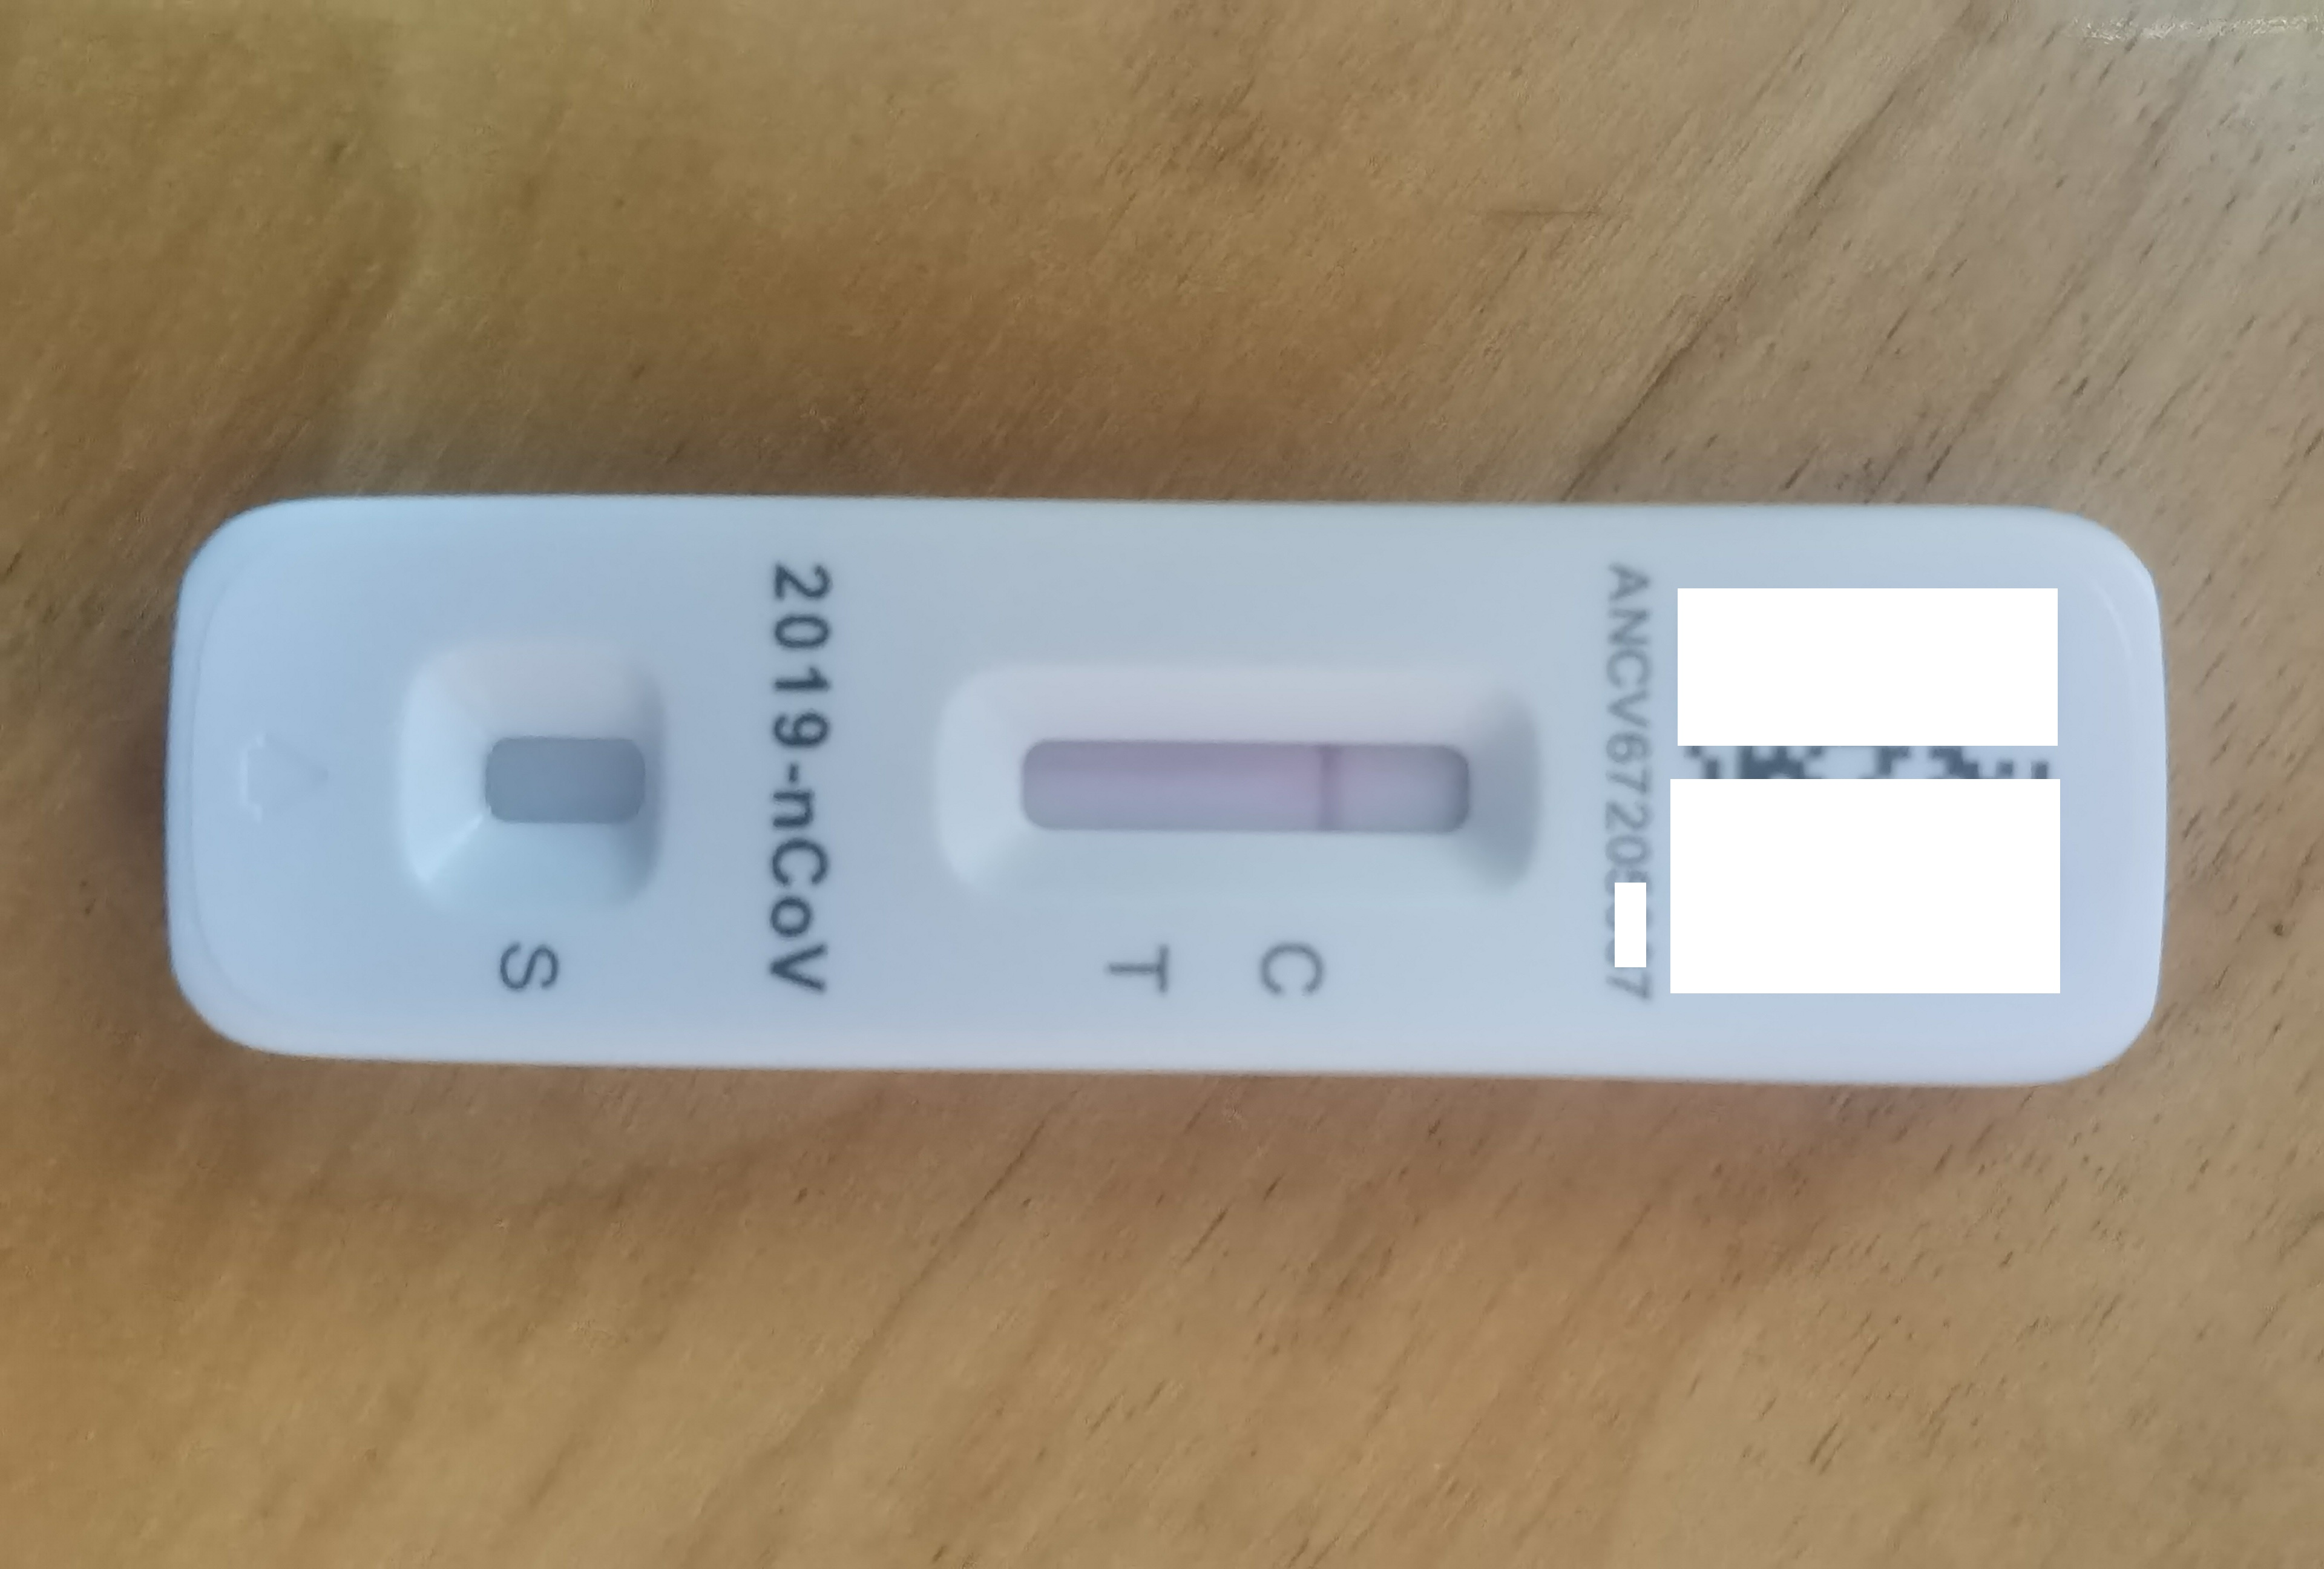negative: (978, 690, 1526, 867)
